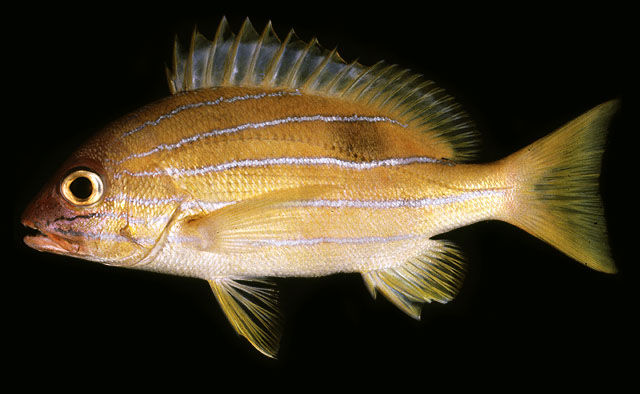fish: (21, 16, 619, 359)
